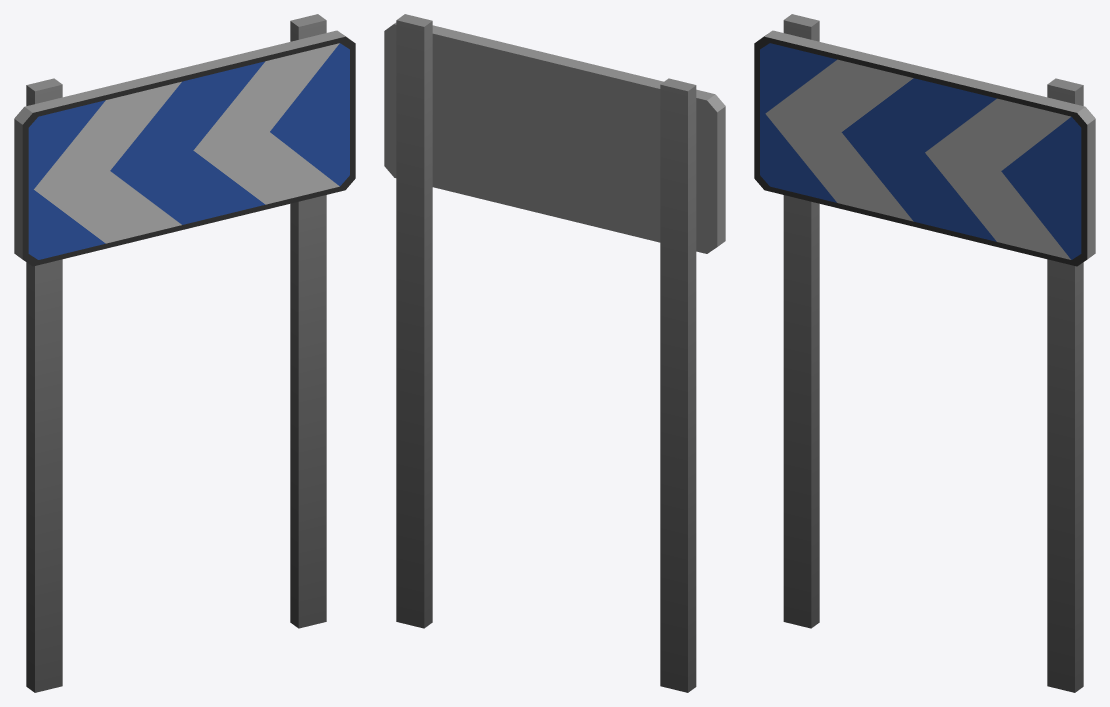
File: sign_left.glb
The picture shows the model from 3 angles, left to right: view 1: azimuth 30°, elevation 25°; view 2: azimuth 150°, elevation 25°; view 3: azimuth 330°, elevation 25°; orthographic projection.
Visible parts, largest first — view 1: huitugou_2168_12.089; view 2: huitugou_2168_12.089; view 3: huitugou_2168_12.089.
Boxes of the visible parts, x1,y1,x2,y2 form: huitugou_2168_12.089: (14, 14, 355, 692); huitugou_2168_12.089: (384, 14, 725, 692); huitugou_2168_12.089: (754, 14, 1095, 692).
Bounding box in the file's own units: 0.7687 × 1.33 × 0.068.
1 material, 1 textured.
